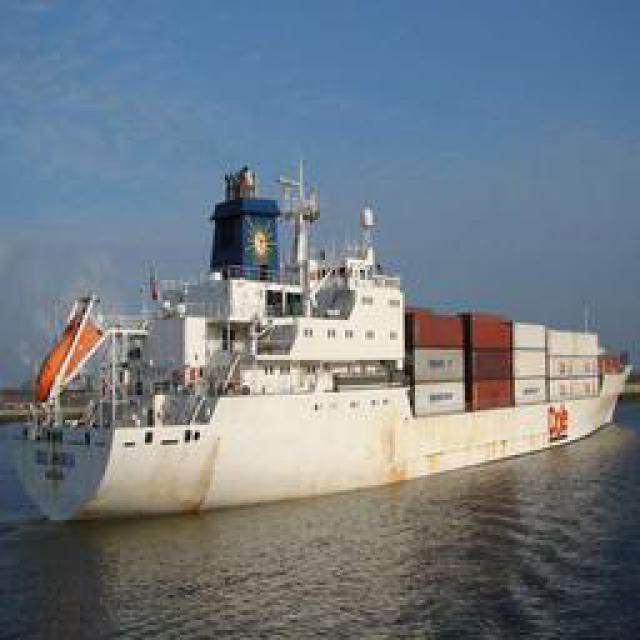Ship: (21, 143, 624, 528)
